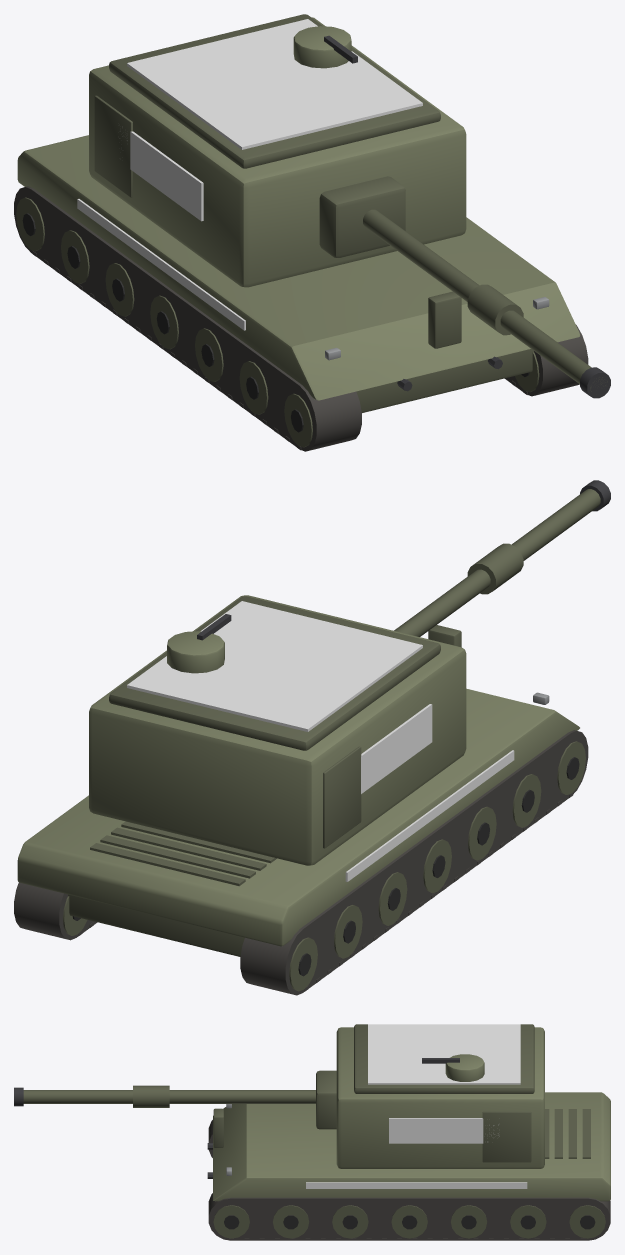
File: howitzer.glb
3 renders of one model, top to bottom at view 1: azimuth 30°, elevation 25°; view 2: azimuth 150°, elevation 25°; view 3: azimuth 270°, elevation 25°, orthographic. The views are drawn at different scales.
Visible parts, largest first — view 1: turret, hull; view 2: turret, hull; view 3: hull, turret.
Boxes of the visible parts, x1,y1,x2,y2 form: turret: (89,14,610,398); hull: (14,135,588,451); turret: (89,480,610,865); hull: (14,625,588,995); hull: (207,1092,610,1240); turret: (14,1024,544,1168).
Size of the model in its own units: 3.06 by 2.52 by 8.6.
